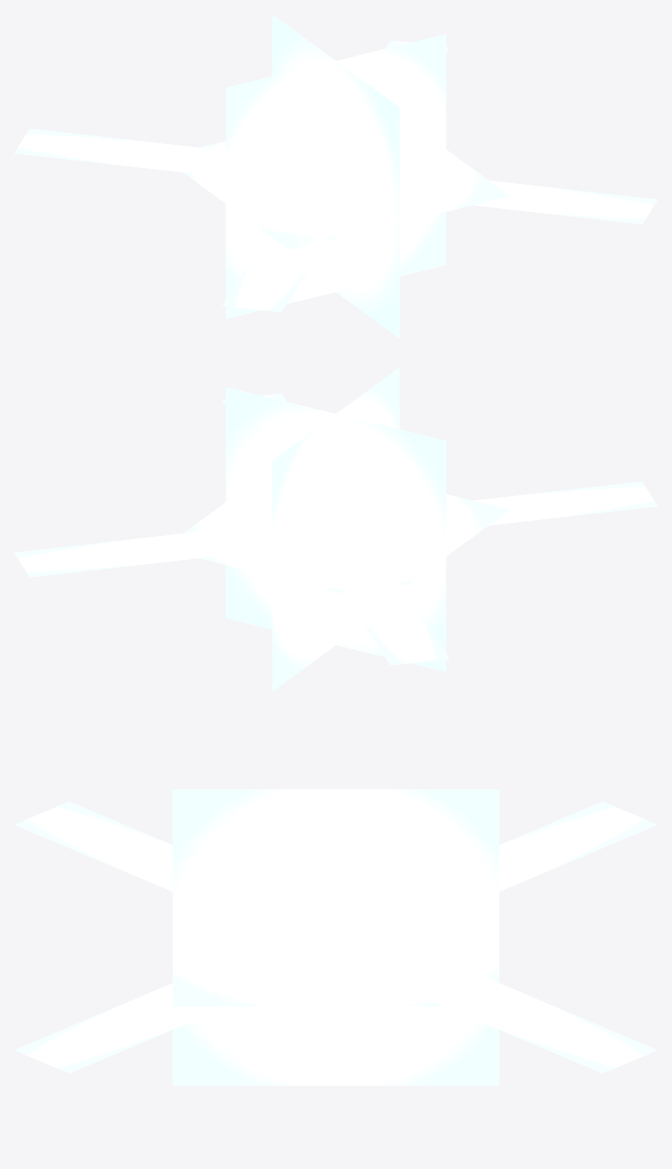
File: sfx_common_lightball1.glb
The picture shows the model from 3 angles, top to bottom: view 1: azimuth 30°, elevation 25°; view 2: azimuth 150°, elevation 25°; view 3: azimuth 270°, elevation 25°; orthographic projection. The views are drawn at different scales.
Parts seen in each view (by area): view 1: sfx_common_lightball1_obj0; view 2: sfx_common_lightball1_obj0; view 3: sfx_common_lightball1_obj0.
Boxes of the visible parts, <box> form: sfx_common_lightball1_obj0: <box>14,14,657,338</box>; sfx_common_lightball1_obj0: <box>14,367,657,691</box>; sfx_common_lightball1_obj0: <box>14,789,657,1085</box>.
Bounding box in the file's own units: 1.02 × 0.5195 × 1.02.
1 material, 1 textured.
